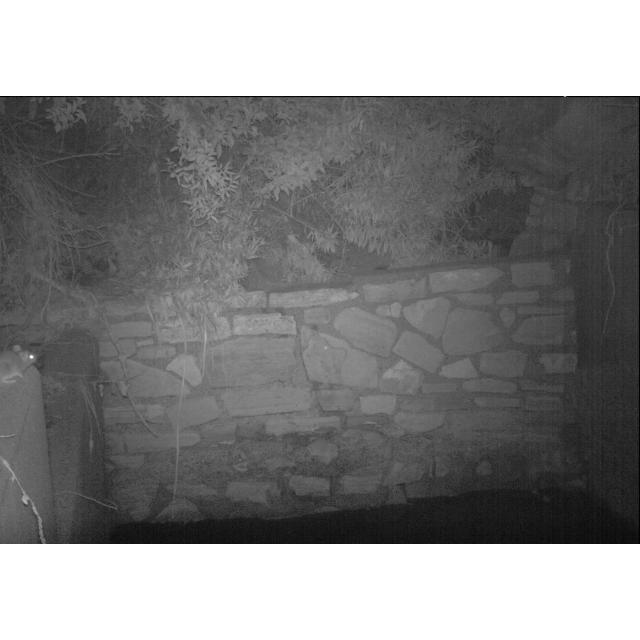animals: (0, 342, 48, 388)
